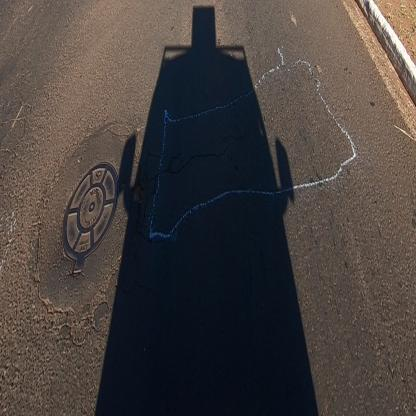manholes: (58, 148, 124, 286)
